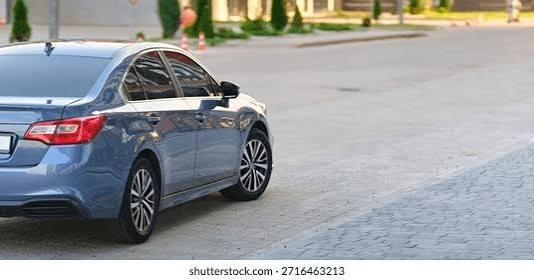car: (1, 38, 274, 248)
